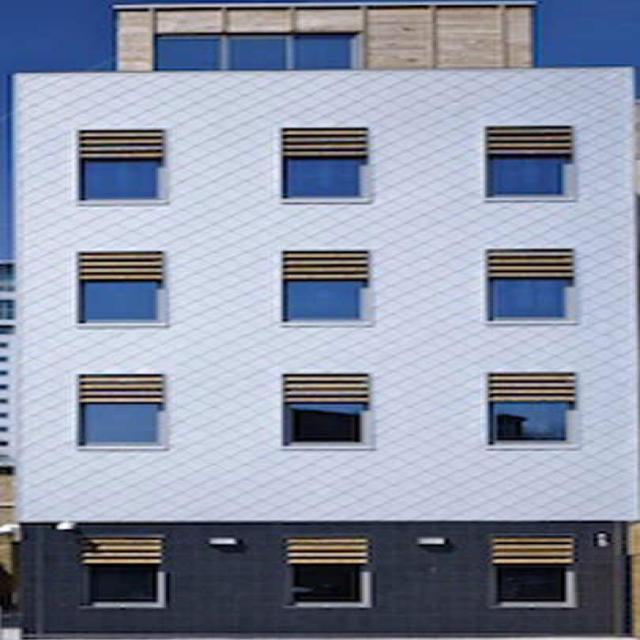window: (155, 33, 362, 72), (76, 159, 168, 202), (286, 159, 378, 202), (486, 155, 578, 198), (484, 275, 576, 318), (488, 400, 580, 443), (74, 279, 166, 321), (284, 279, 376, 321), (78, 403, 170, 445), (288, 403, 380, 445), (497, 561, 572, 609), (294, 568, 370, 608), (87, 563, 154, 602)
